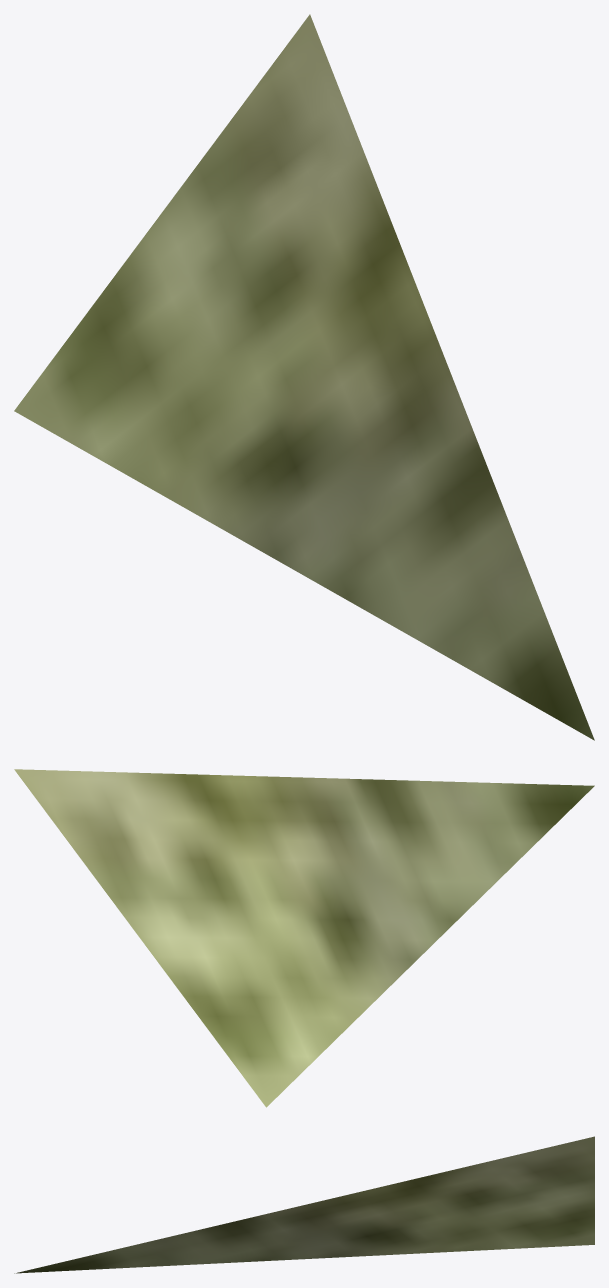
3 views of the same model, one above another, from view 1: azimuth 30°, elevation 25°; view 2: azimuth 150°, elevation 25°; view 3: azimuth 270°, elevation 25° (orthographic). The views are drawn at different scales.
Bounding box in the file's own units: 0.2891 × 0.3031 × 0.8173.
Materials: 1 (1 with a texture image).
